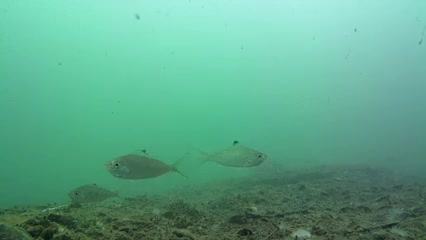smallfish: (105, 144, 192, 188), (204, 140, 278, 173), (69, 181, 123, 203)
